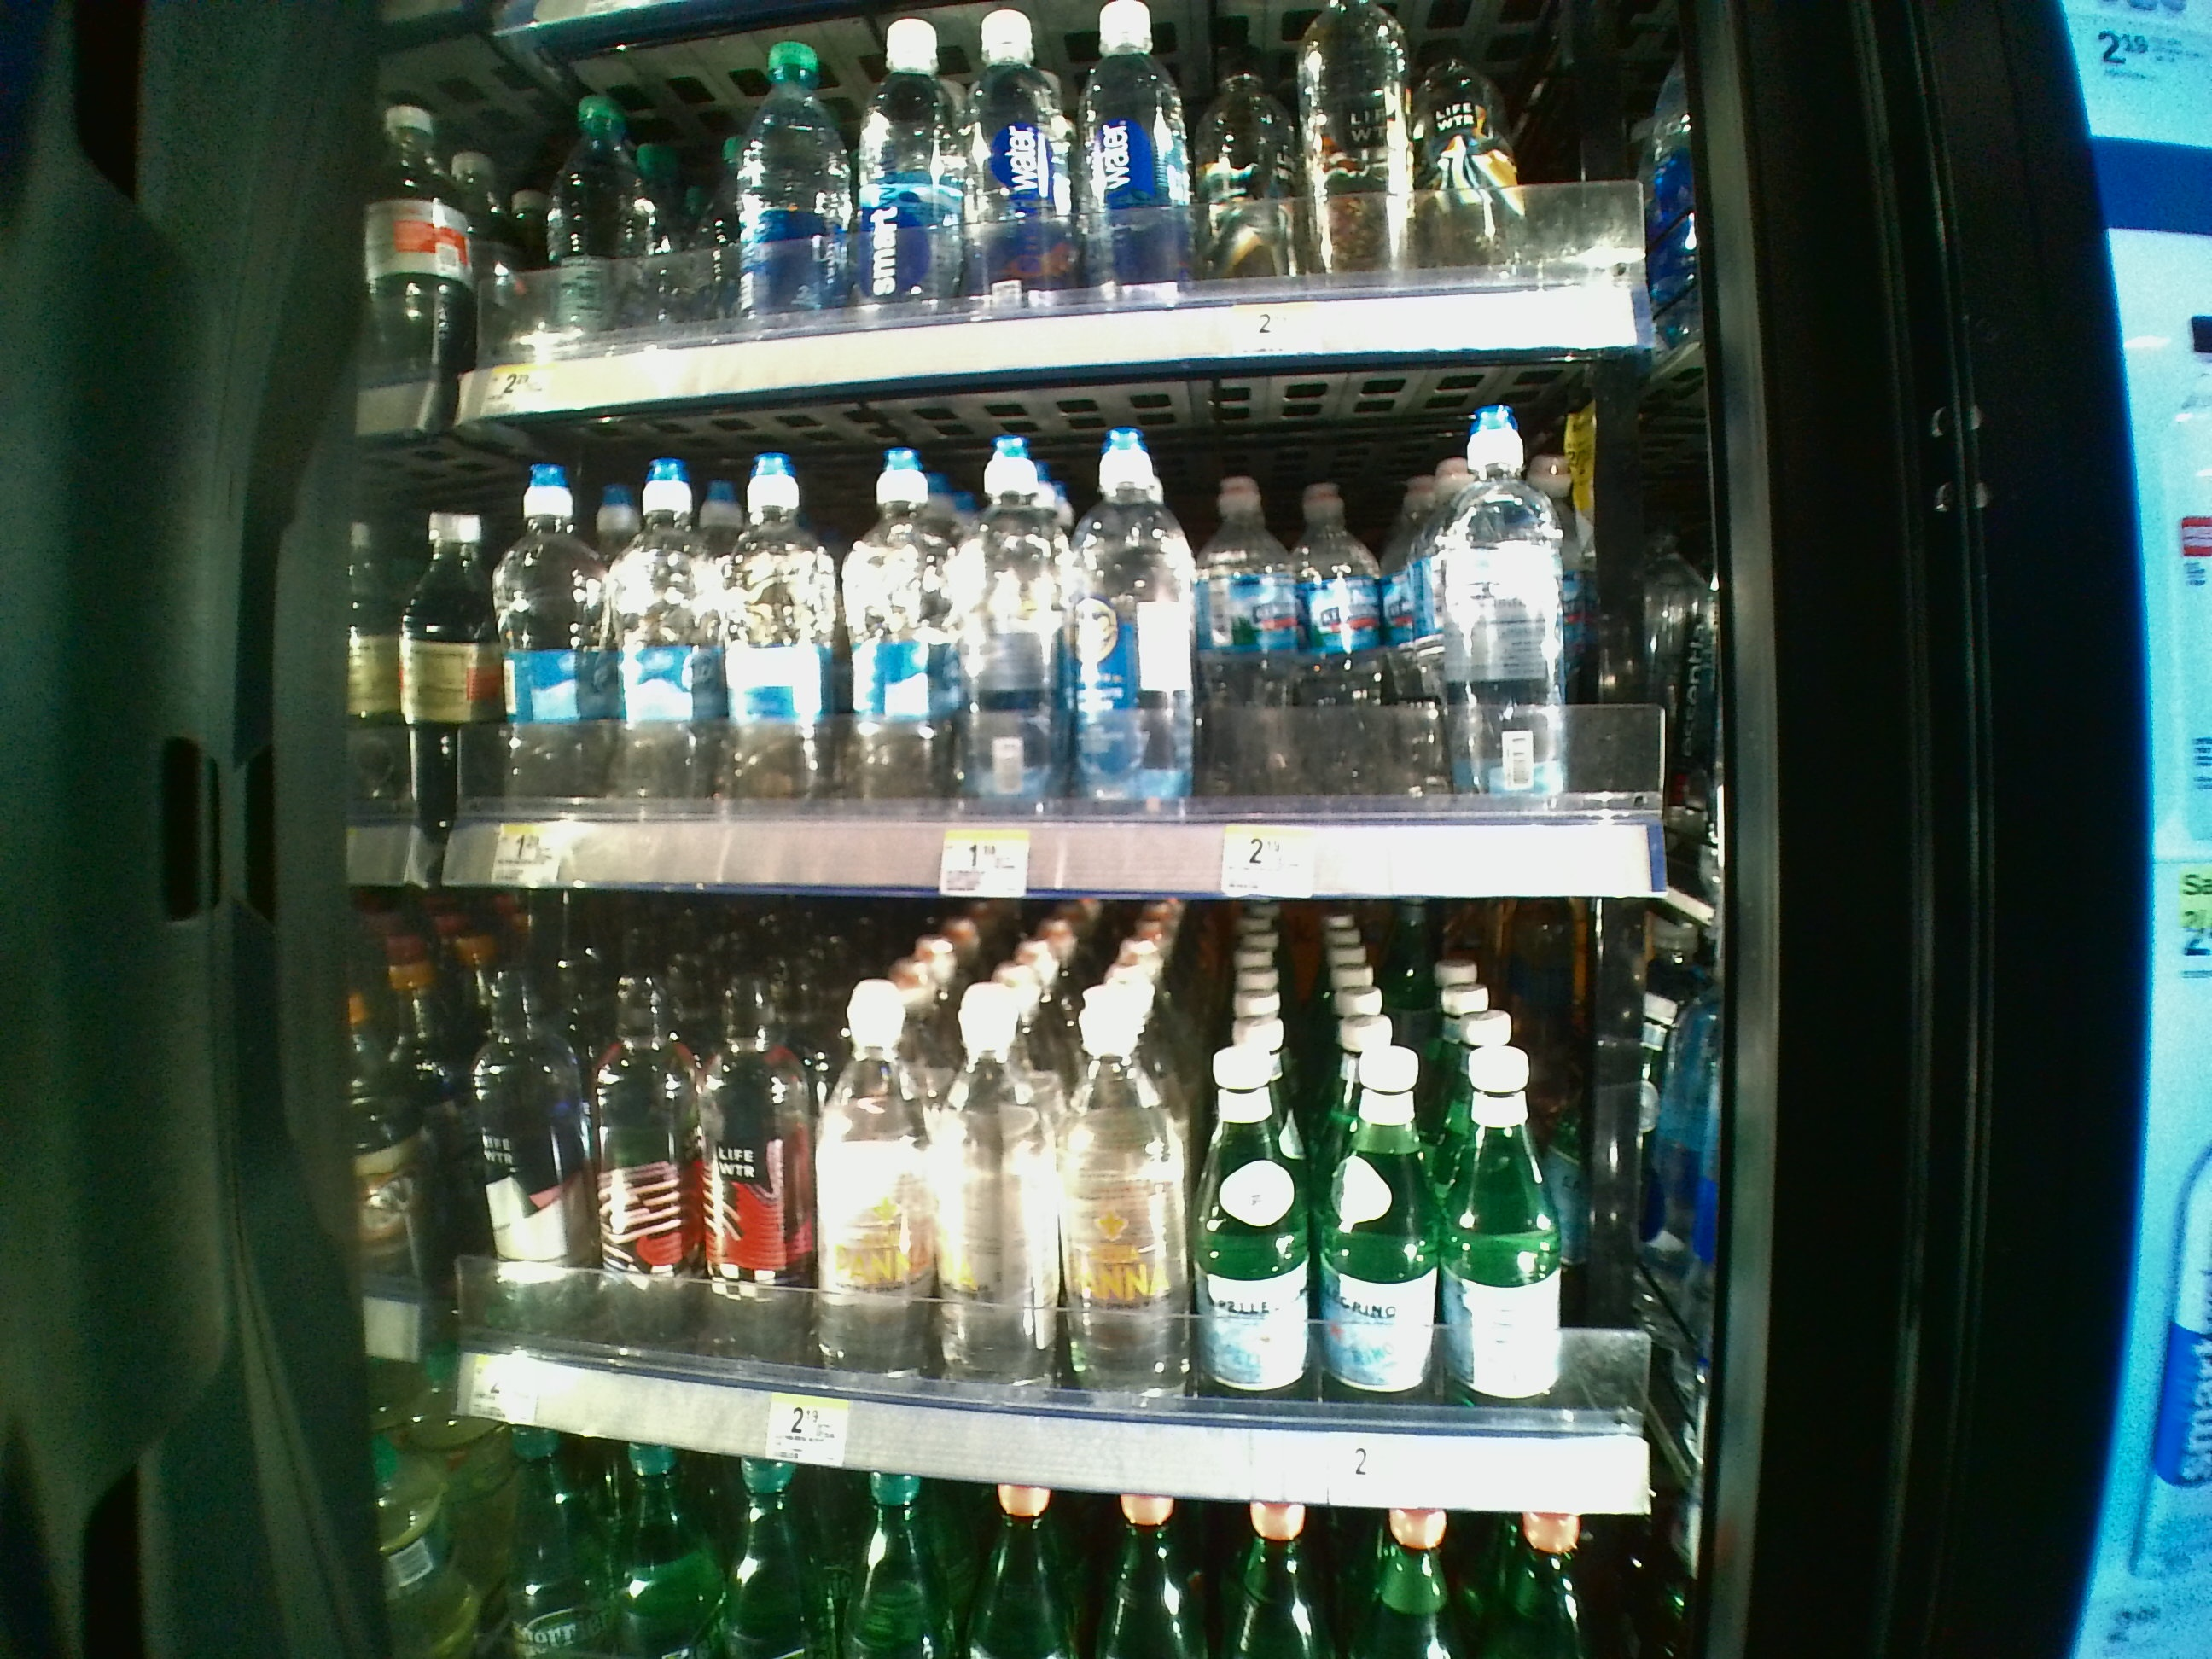Shelf: (428, 892, 1686, 1513), (428, 427, 1686, 894)
